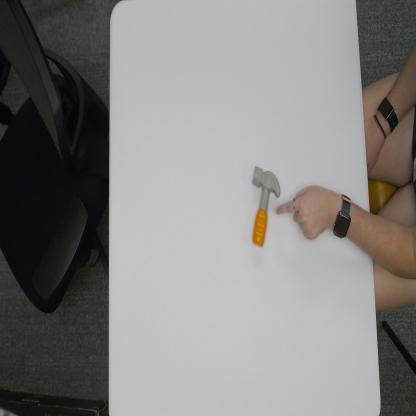Arm: (352, 200, 372, 257)
Hammer: (250, 164, 282, 247)
Hand: (275, 185, 335, 241)
